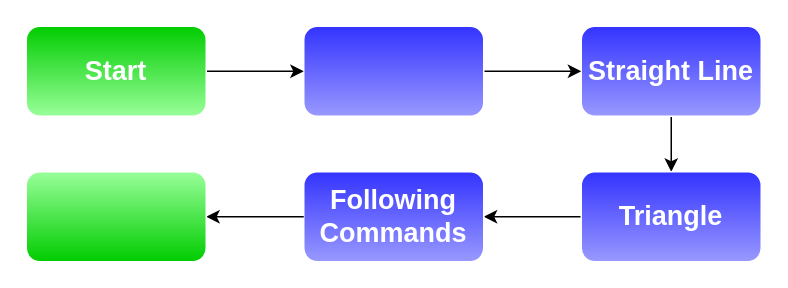
Some shapes in this 788 by 288 pixel diagram are drawn without their labels. Each missing label, with the centre of its shape:
End: pixel 115 216
Random Position: pixel 393 70
